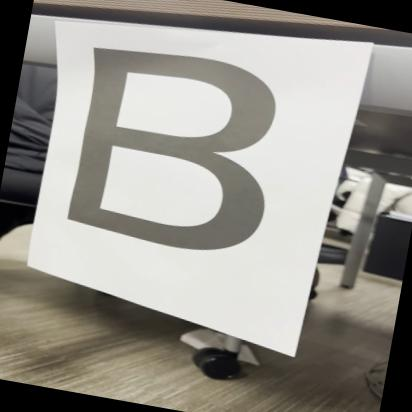seat: (34, 30, 320, 278)
